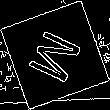M_SE: (22, 23, 88, 87)
